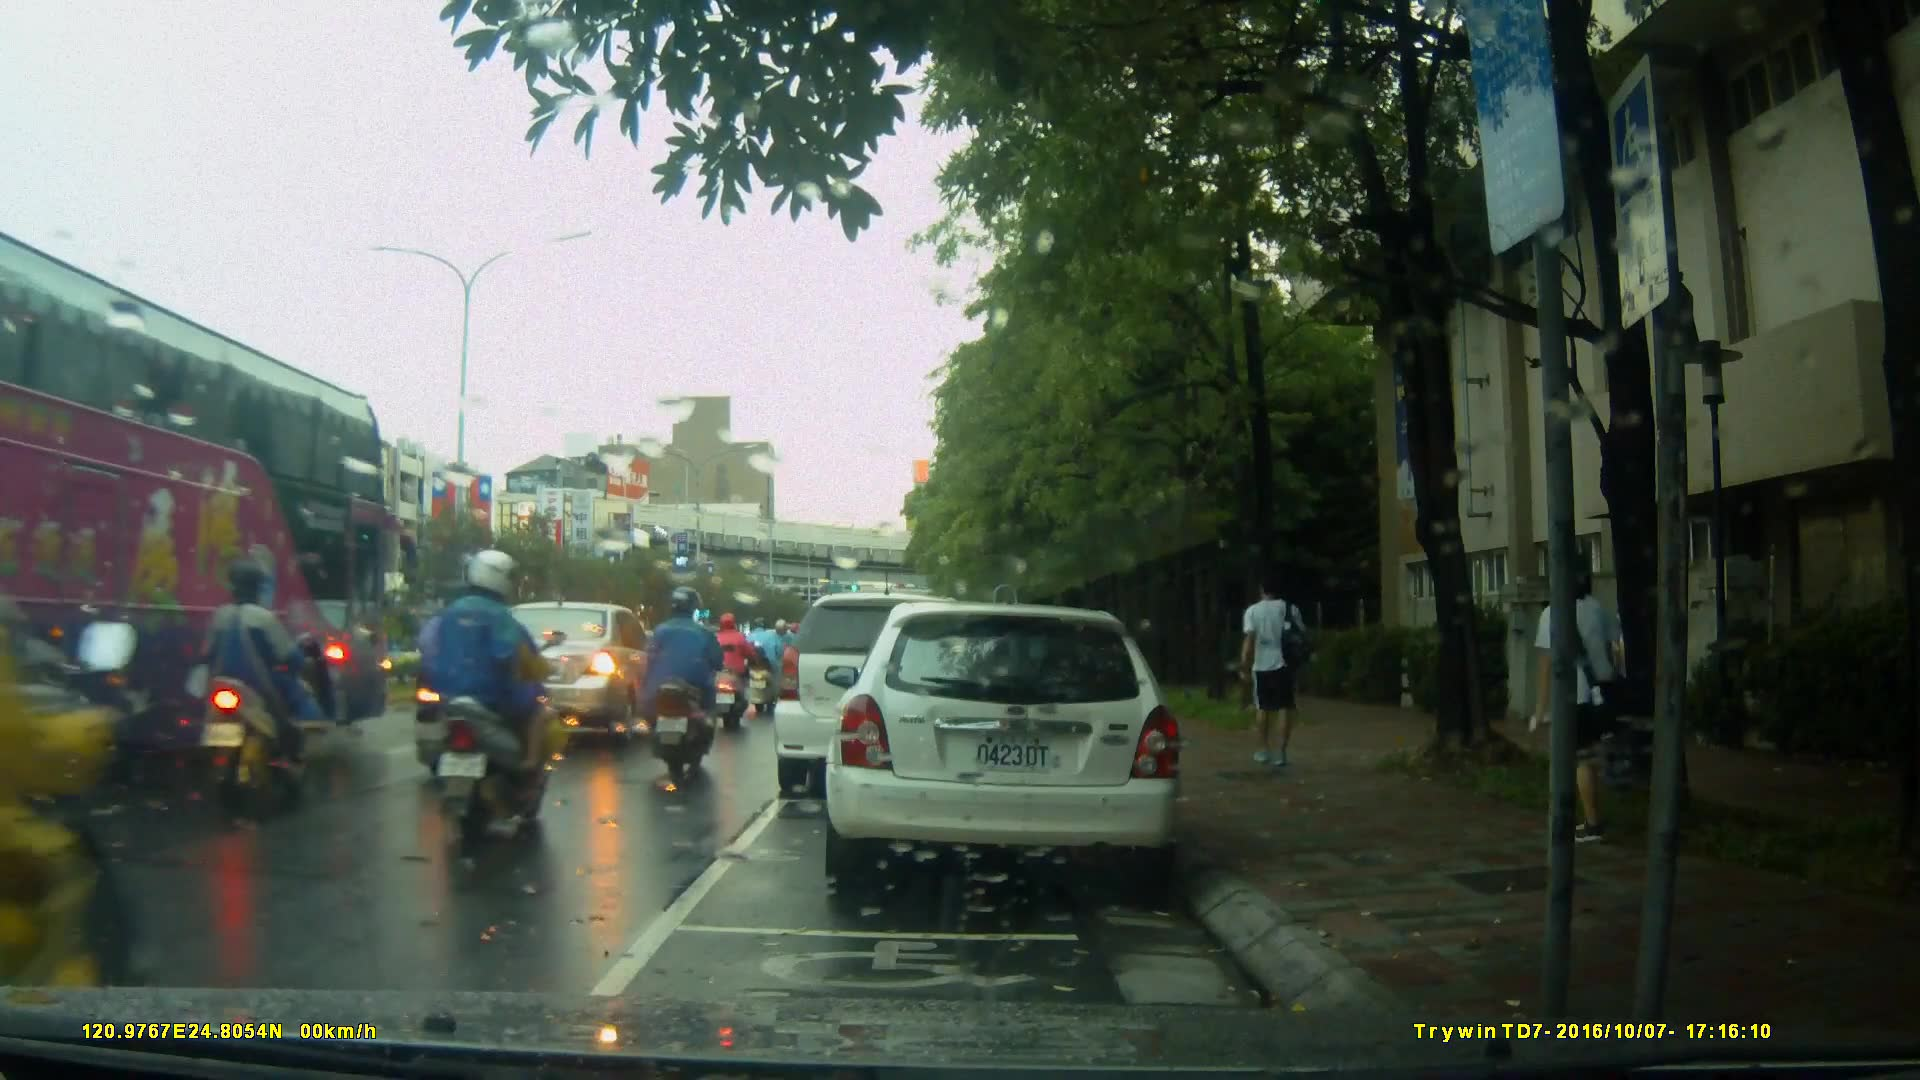pedestrian: (1517, 547, 1620, 845), (1227, 569, 1313, 785)
rider: (1, 457, 153, 1054), (428, 550, 553, 845), (193, 556, 318, 815), (643, 583, 726, 778), (705, 605, 761, 727), (747, 612, 786, 713), (773, 621, 811, 707)
vehicle: (10, 245, 392, 859), (812, 604, 1188, 881), (774, 595, 995, 802), (463, 600, 684, 746)
